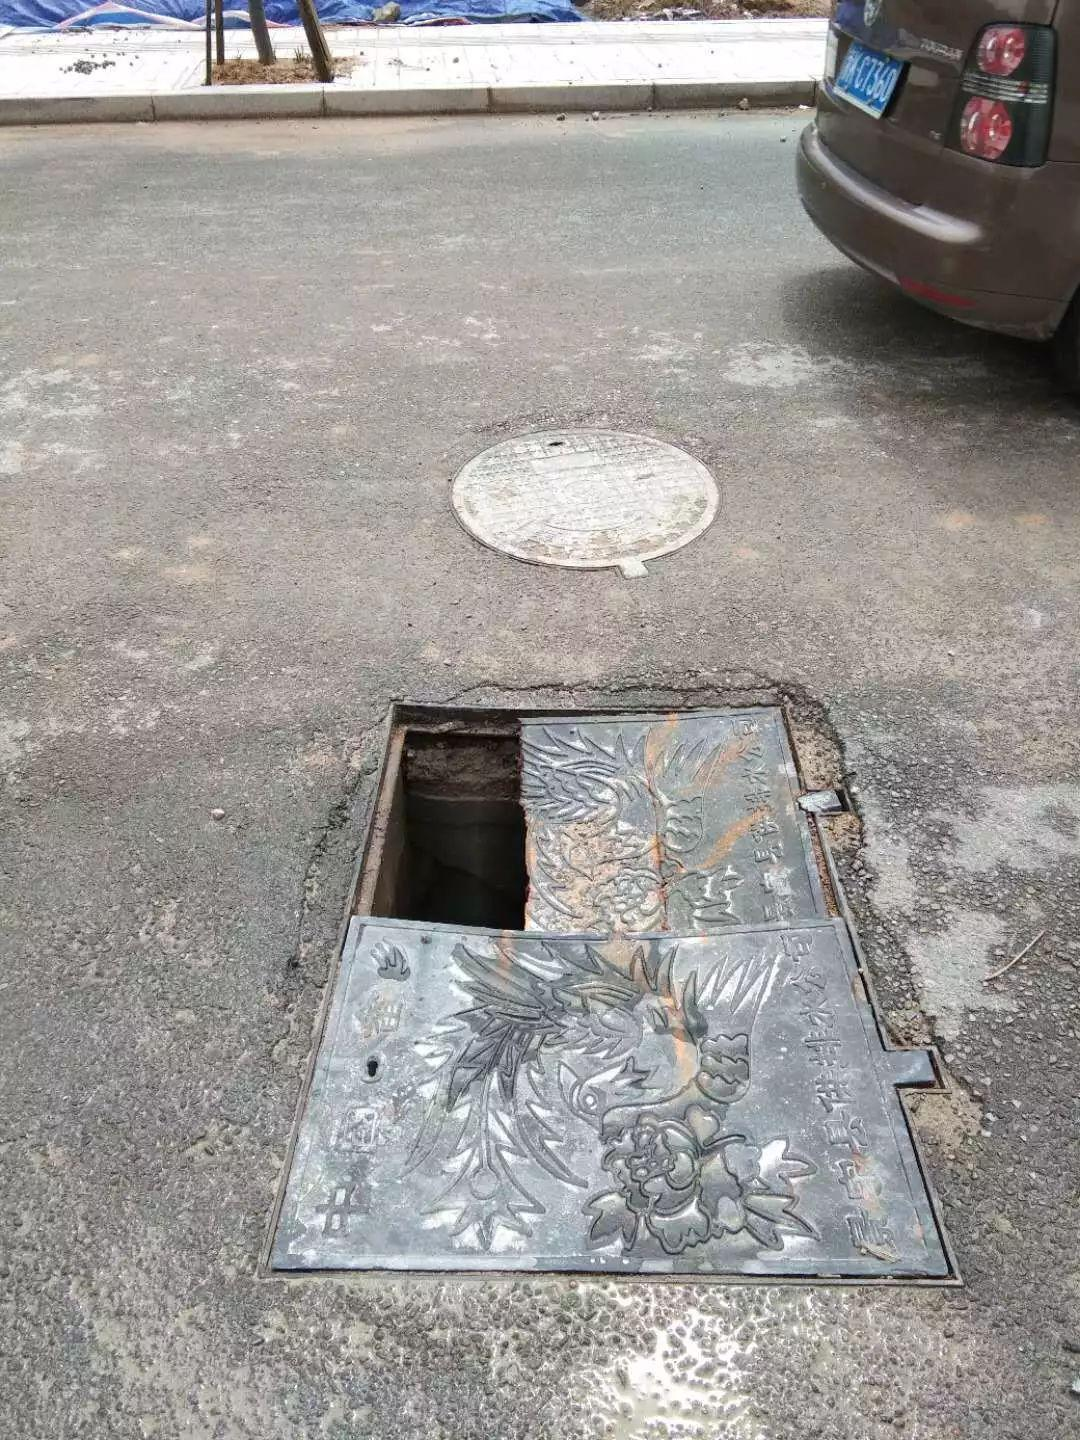wellcover: (223, 653, 986, 1331), (408, 358, 769, 611)
